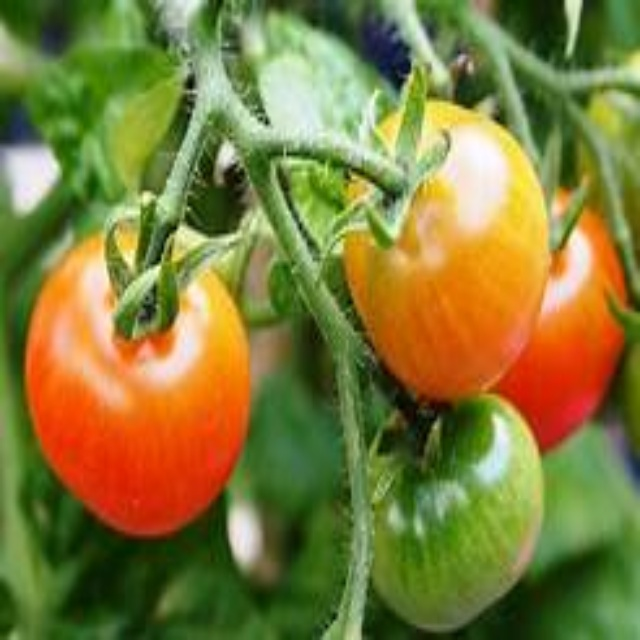tomato: (29, 232, 238, 534), (331, 105, 546, 395), (338, 402, 558, 626), (485, 177, 628, 447)
